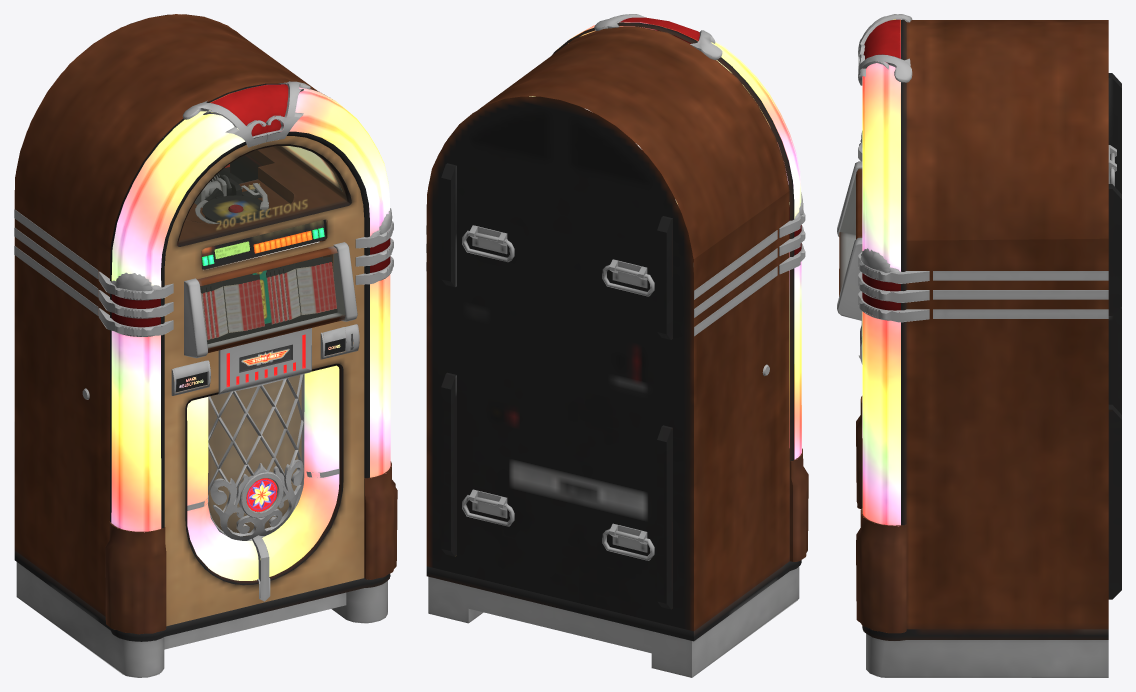
Rendered from jukebox-188e71.glb.
3 views of the same model, side by side, from view 1: azimuth 30°, elevation 25°; view 2: azimuth 150°, elevation 25°; view 3: azimuth 270°, elevation 25° (orthographic). The views are drawn at different scales.
Visible parts, largest first — view 1: PropMesh; view 2: PropMesh; view 3: PropMesh.
Boxes of the visible parts, x1,y1,x2,y2 form: PropMesh: (14,14,397,677); PropMesh: (426,14,808,677); PropMesh: (837,14,1121,677).
Size of the model in its own units: 0.8616 by 1.59 by 0.7121.
Materials: 4 (4 with a texture image).
